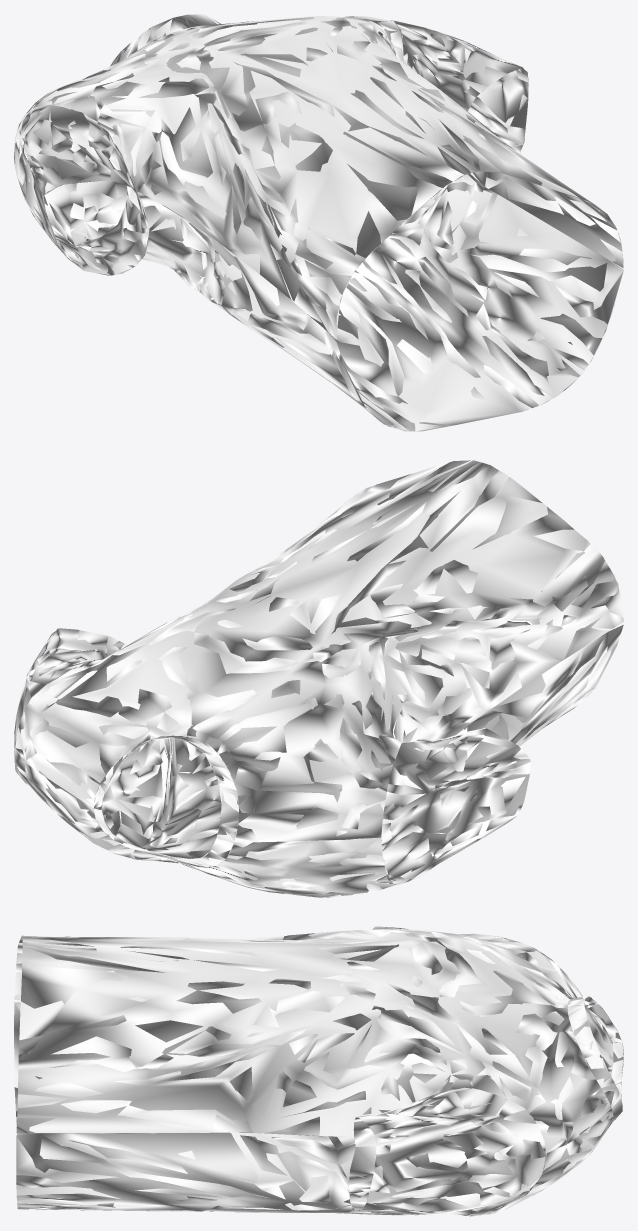
Rendered from t_shirt.obj.
3 views of the same model, one above another, from view 1: azimuth 30°, elevation 25°; view 2: azimuth 150°, elevation 25°; view 3: azimuth 270°, elevation 25° (orthographic). The views are drawn at different scales.
Parts seen in each view (by area): view 1: t_shirt; view 2: t_shirt; view 3: t_shirt.
Boxes of the visible parts, <box> form: t_shirt: <box>14,14,623,431</box>; t_shirt: <box>14,460,623,897</box>; t_shirt: <box>14,926,623,1216</box>.
Bounding box in the file's own units: 2.9 × 1.43 × 3.34.
3 materials, 1 textured.
